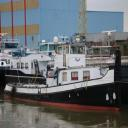tugboat: (4, 35, 125, 117)
